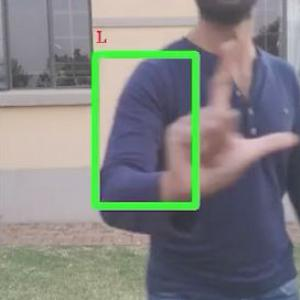land_hand: (154, 36, 299, 209)
